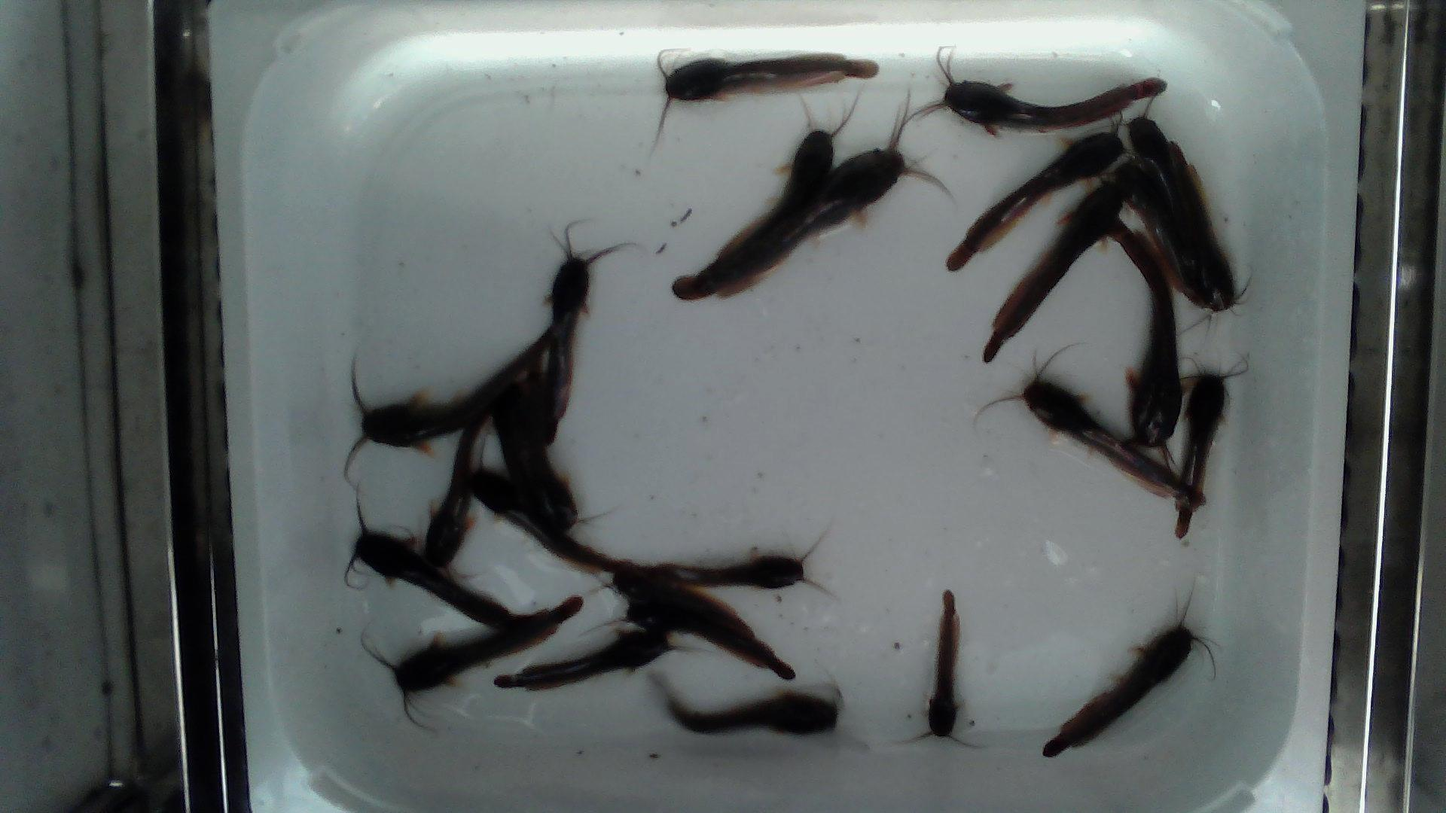lele: (670, 84, 952, 301), (973, 341, 1207, 512), (344, 325, 558, 496), (360, 596, 585, 729), (947, 109, 1125, 269), (705, 89, 860, 269), (1043, 597, 1217, 757), (344, 491, 533, 626), (985, 182, 1127, 360), (905, 47, 1166, 135), (470, 435, 633, 575), (540, 222, 634, 446), (580, 585, 797, 681), (657, 49, 879, 142), (1114, 221, 1182, 464), (1106, 155, 1208, 308), (636, 523, 839, 599), (1170, 143, 1252, 331), (1174, 357, 1251, 539), (1123, 94, 1200, 266), (588, 571, 757, 644), (418, 414, 489, 582), (496, 625, 670, 690), (519, 358, 580, 536), (664, 687, 838, 732), (920, 589, 969, 745), (493, 382, 533, 508)
